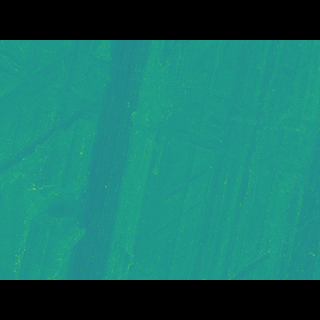Loch: (0, 69, 320, 178), (0, 175, 91, 249)
